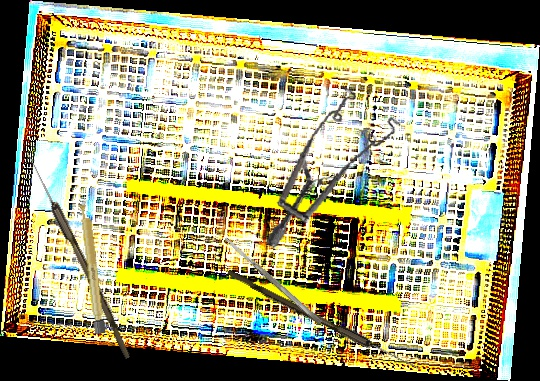Scalpel Handle: (78, 198, 107, 335)
Spatula Surgical: (223, 235, 323, 326)
Speculum: (264, 76, 406, 266)
Surgical Spoon: (21, 149, 136, 360), (224, 269, 423, 373)
